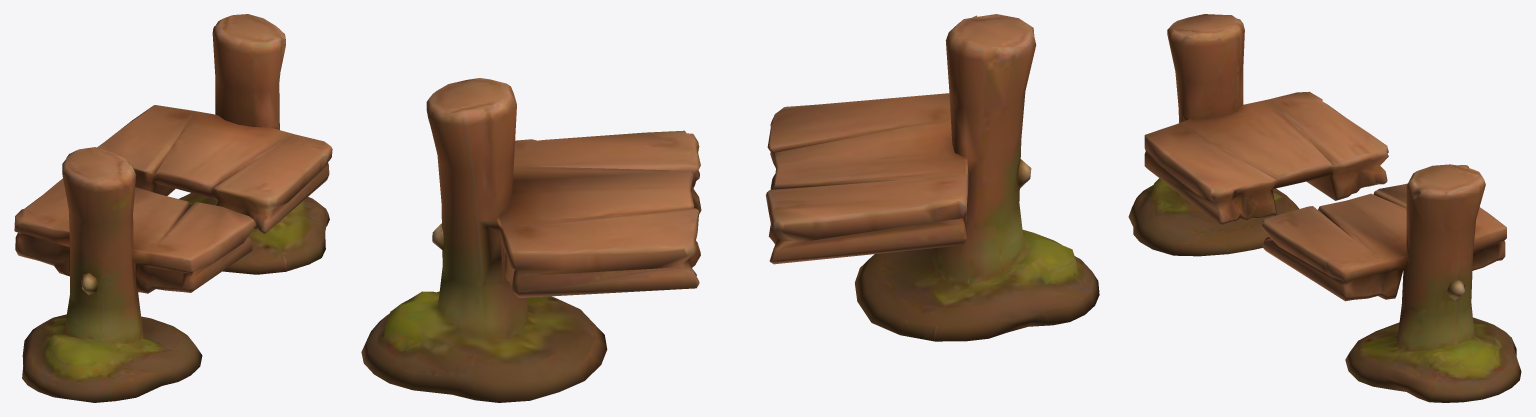
Rendered from wyn_quest_walkway_gap.glb.
3 renders of one model, left to right at view 1: azimuth 30°, elevation 25°; view 2: azimuth 150°, elevation 25°; view 3: azimuth 270°, elevation 25°, orthographic. The views are drawn at different scales.
Parts seen in each view (by area): view 1: tripo_node_ecbca69f-8484-4554-8d69-853cc09cb053; view 2: tripo_node_ecbca69f-8484-4554-8d69-853cc09cb053; view 3: tripo_node_ecbca69f-8484-4554-8d69-853cc09cb053.
Boxes of the visible parts, left/top/right/bottom form: tripo_node_ecbca69f-8484-4554-8d69-853cc09cb053: left=14, top=14, right=332, bottom=402; tripo_node_ecbca69f-8484-4554-8d69-853cc09cb053: left=361, top=14, right=1099, bottom=402; tripo_node_ecbca69f-8484-4554-8d69-853cc09cb053: left=1128, top=14, right=1521, bottom=402.
Size of the model in its own units: 1.54 by 0.7999 by 1.3.
1 material, 1 textured.
